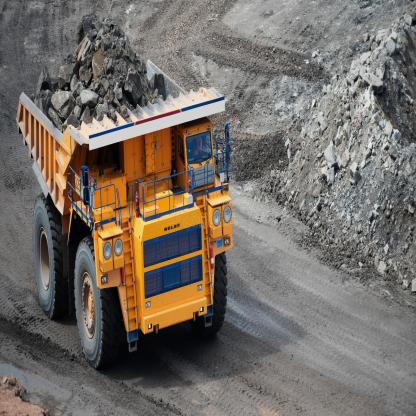dump_truck: (7, 10, 256, 361)
